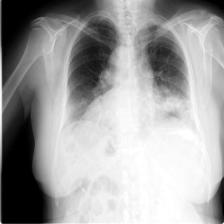tuberculosis: (57, 12, 201, 161)
